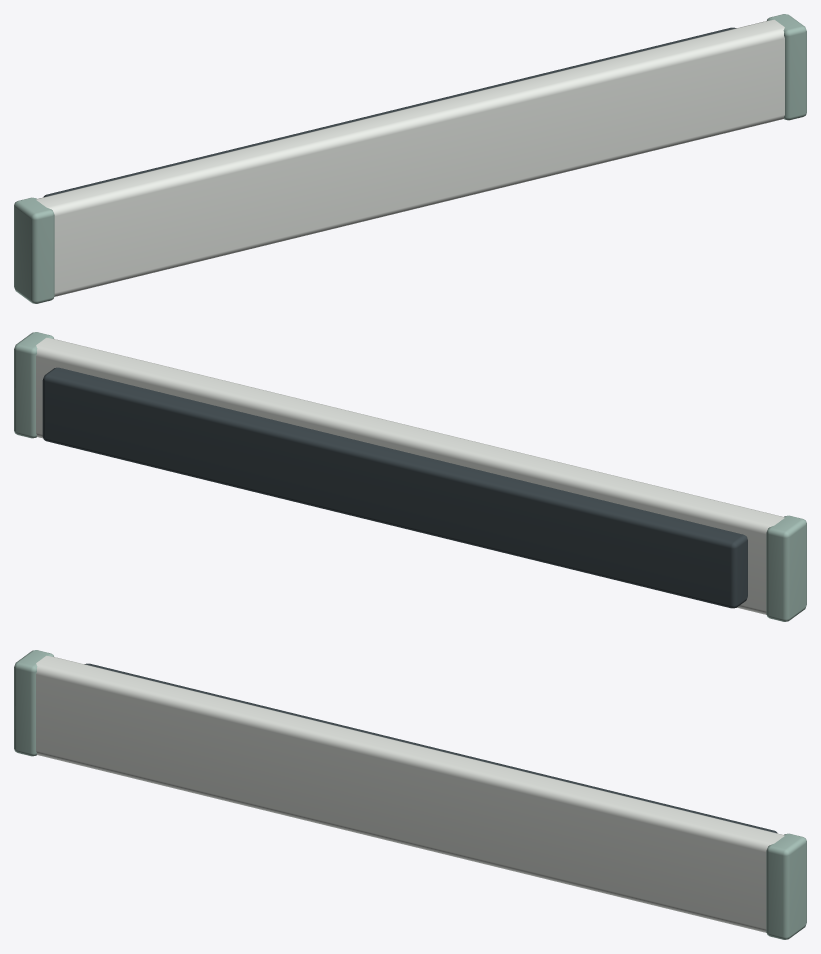
Rendered from wall_bumper.fbx.
3 renders of one model, top to bottom at view 1: azimuth 30°, elevation 25°; view 2: azimuth 150°, elevation 25°; view 3: azimuth 330°, elevation 25°, orthographic.
Parts seen in each view (by area): view 1: EQ_wall_bumper_M_Ivory, EQ_wall_bumper_M_Sage, EQ_wall_bumper_M_PlasticGrey; view 2: EQ_wall_bumper_M_PlasticGrey, EQ_wall_bumper_M_Ivory, EQ_wall_bumper_M_Sage; view 3: EQ_wall_bumper_M_Ivory, EQ_wall_bumper_M_Sage, EQ_wall_bumper_M_PlasticGrey.
Boxes of the visible parts, box(x1,y1,x2,y2) form: EQ_wall_bumper_M_Ivory: box(36, 19, 784, 296); EQ_wall_bumper_M_Sage: box(14, 14, 806, 303); EQ_wall_bumper_M_PlasticGrey: box(43, 27, 736, 197); EQ_wall_bumper_M_PlasticGrey: box(42, 367, 747, 608); EQ_wall_bumper_M_Ivory: box(36, 337, 784, 614); EQ_wall_bumper_M_Sage: box(14, 332, 806, 621); EQ_wall_bumper_M_Ivory: box(36, 655, 784, 932); EQ_wall_bumper_M_Sage: box(14, 650, 806, 939); EQ_wall_bumper_M_PlasticGrey: box(84, 663, 777, 833).
Size of the model in its own units: 1.34 by 0.15 by 0.1.
